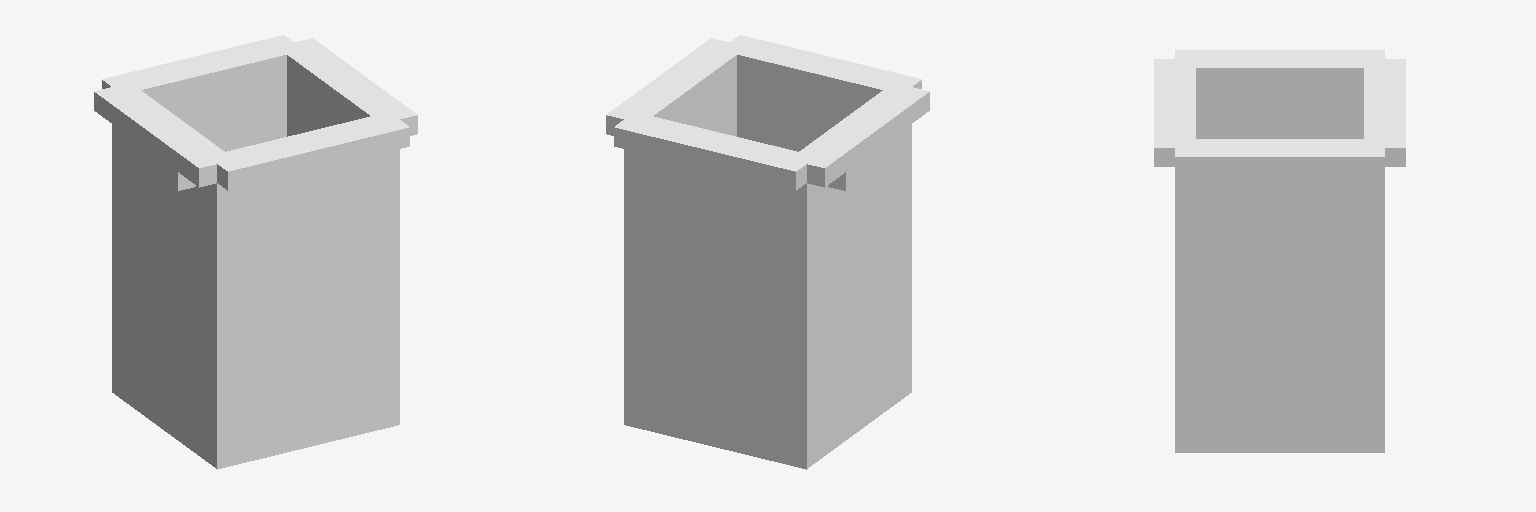
The model's file is rubbish0.obj.
3 views of the same model, side by side, from view 1: azimuth 30°, elevation 25°; view 2: azimuth 150°, elevation 25°; view 3: azimuth 270°, elevation 25° (orthographic).
Bounding box in the file's own units: 0.6 × 0.8 × 0.6.